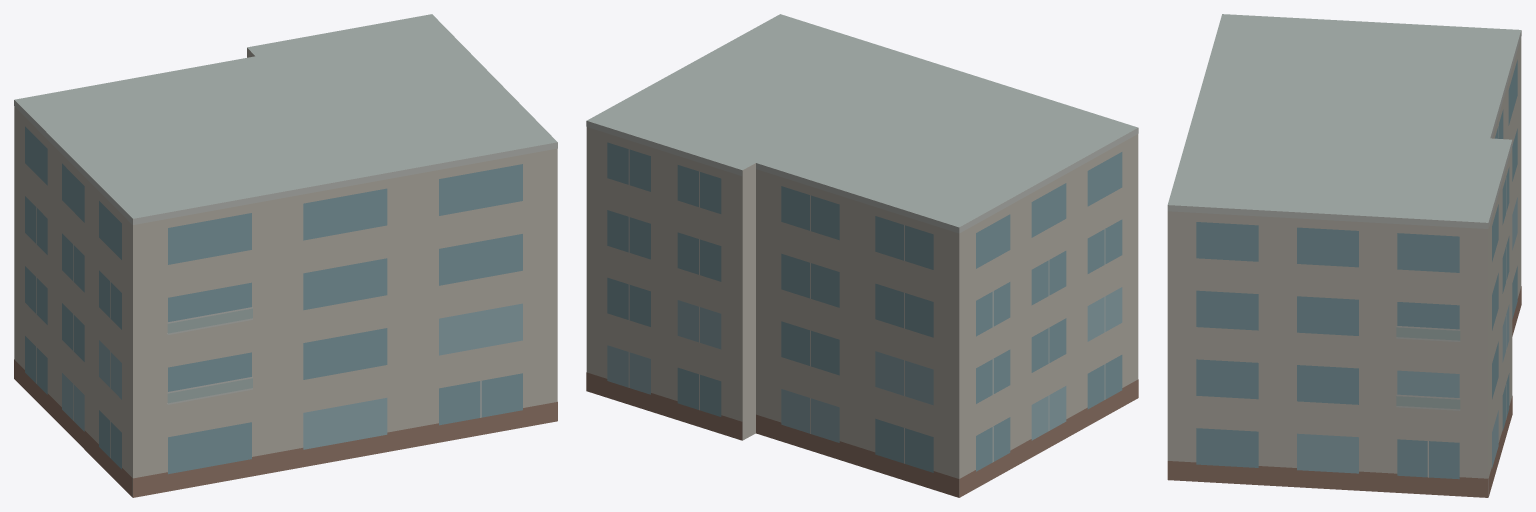
Rendered from survey-upis-32669109.glb.
3 views of the same model, side by side, from view 1: azimuth 30°, elevation 25°; view 2: azimuth 150°, elevation 25°; view 3: azimuth 270°, elevation 25° (orthographic). The views are drawn at different scales.
Visible parts, largest first — view 1: survey-upis-32669109.tmp; view 2: survey-upis-32669109.tmp; view 3: survey-upis-32669109.tmp.
Boxes of the visible parts, x1,y1,x2,y2 form: survey-upis-32669109.tmp: (14, 14, 557, 497); survey-upis-32669109.tmp: (586, 14, 1138, 497); survey-upis-32669109.tmp: (1167, 14, 1521, 497).
Size of the model in its own units: 17.66 by 10.83 by 12.64.
